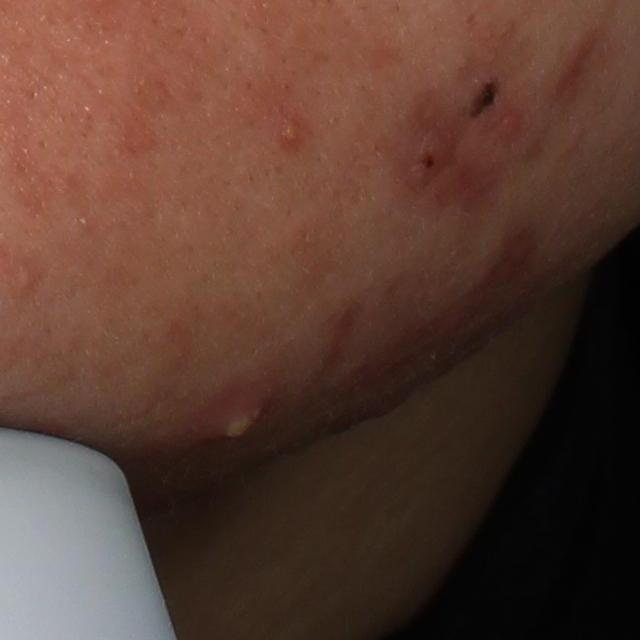nevus: (468, 79, 498, 117)
papule: (410, 133, 452, 185)
pustule: (194, 386, 278, 453), (275, 111, 307, 152)
